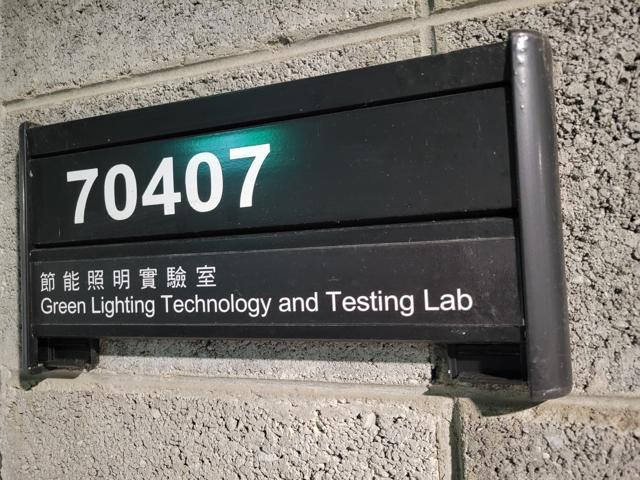doorplate: (11, 23, 578, 416)
